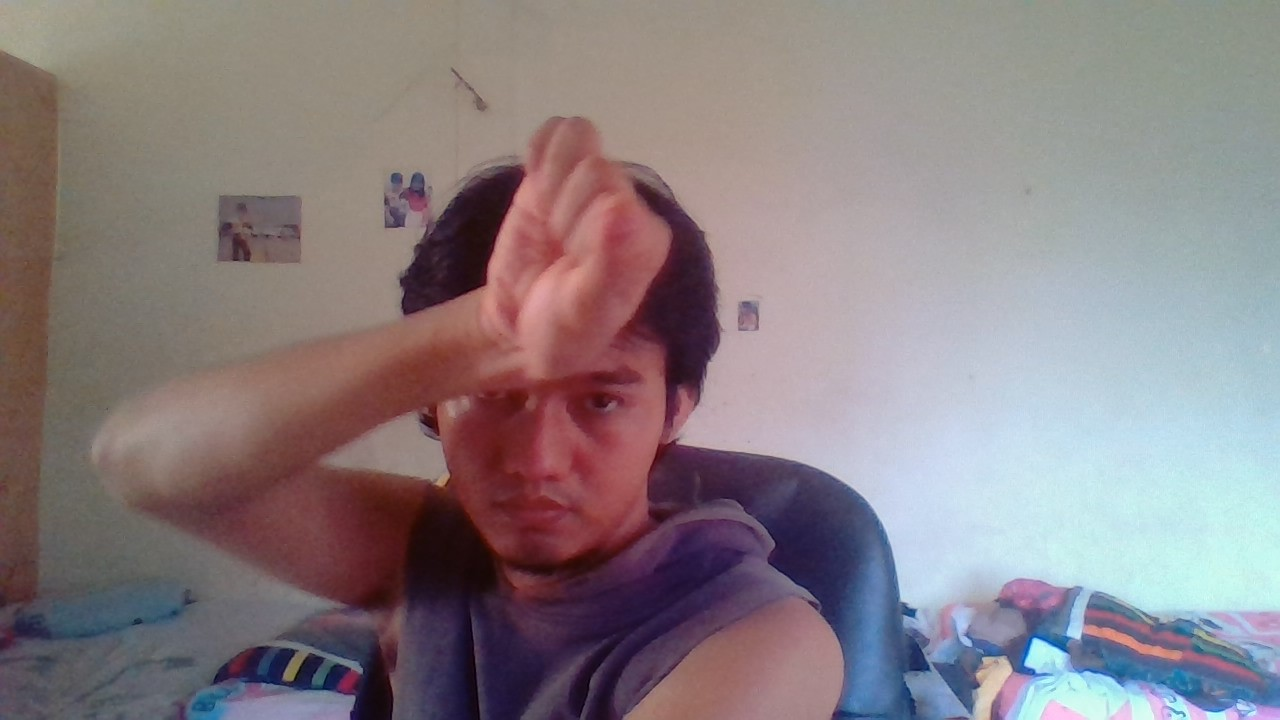A: (438, 98, 692, 401)
